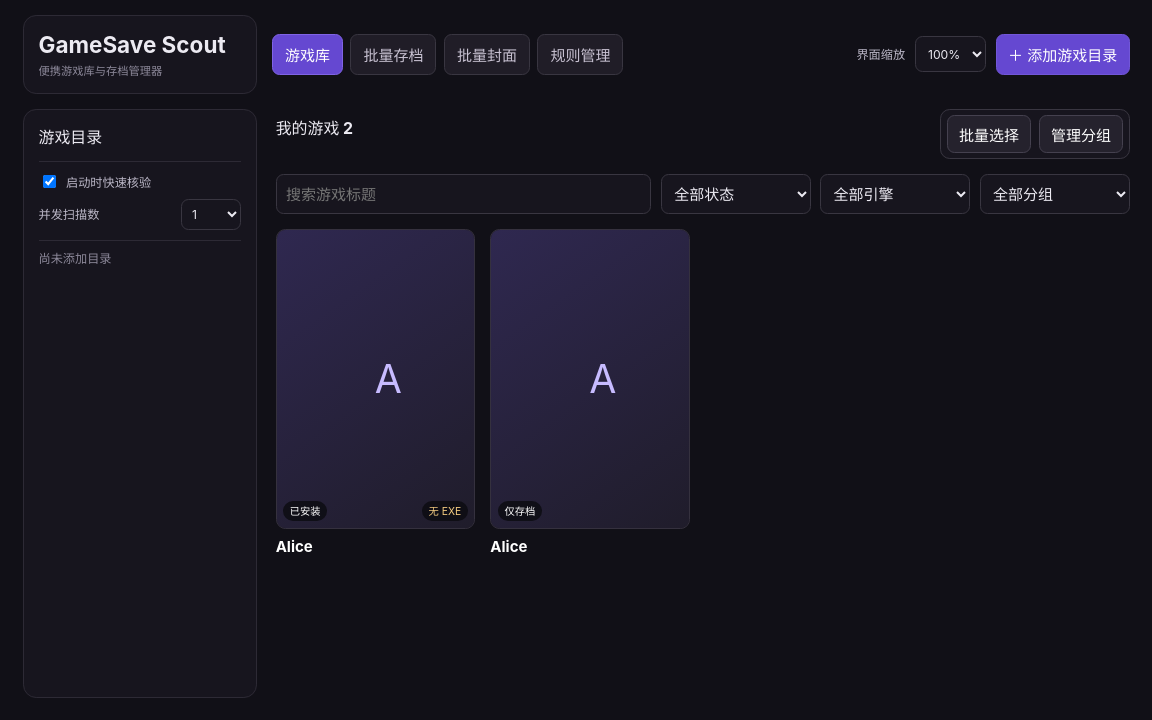
Scenario: App › keeps batch mode and remaining selections after a group update
The width and height of the screenshot is (1152, 720).
Click the button with test id "enter-batch-mode": [989, 134] box top-left (947, 115), bottom-right (1031, 153)
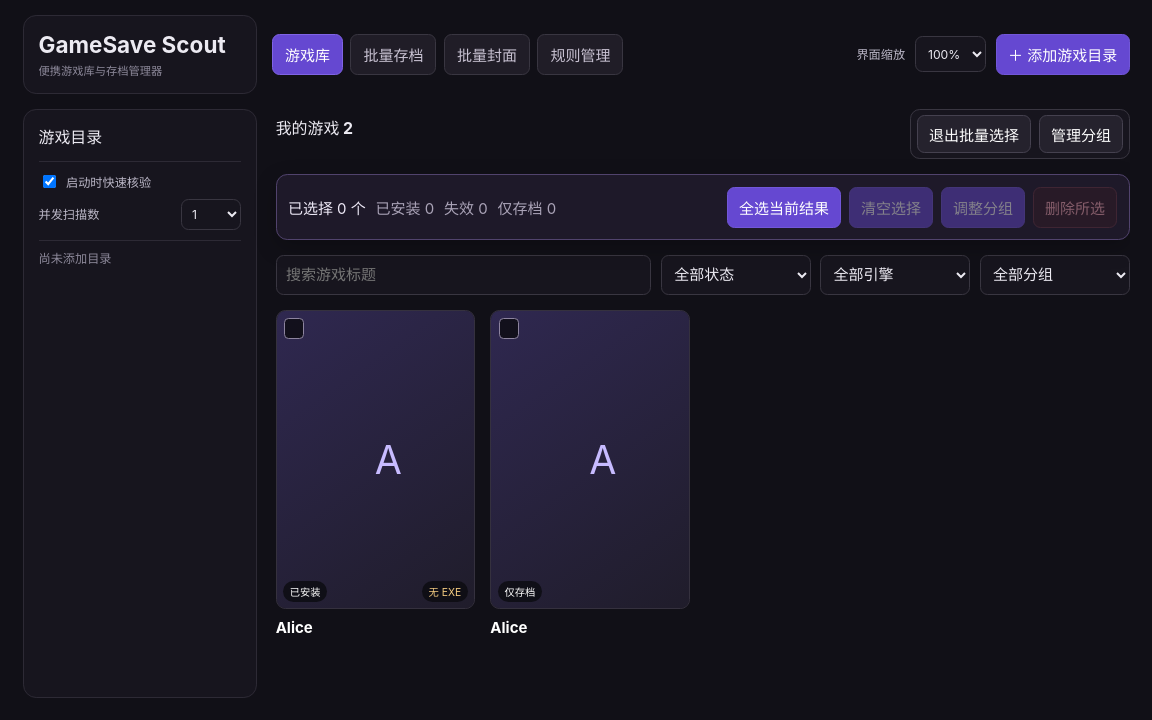
Click the button with test id "game-card-installed-1": [375, 473] box top-left (276, 310), bottom-right (475, 637)
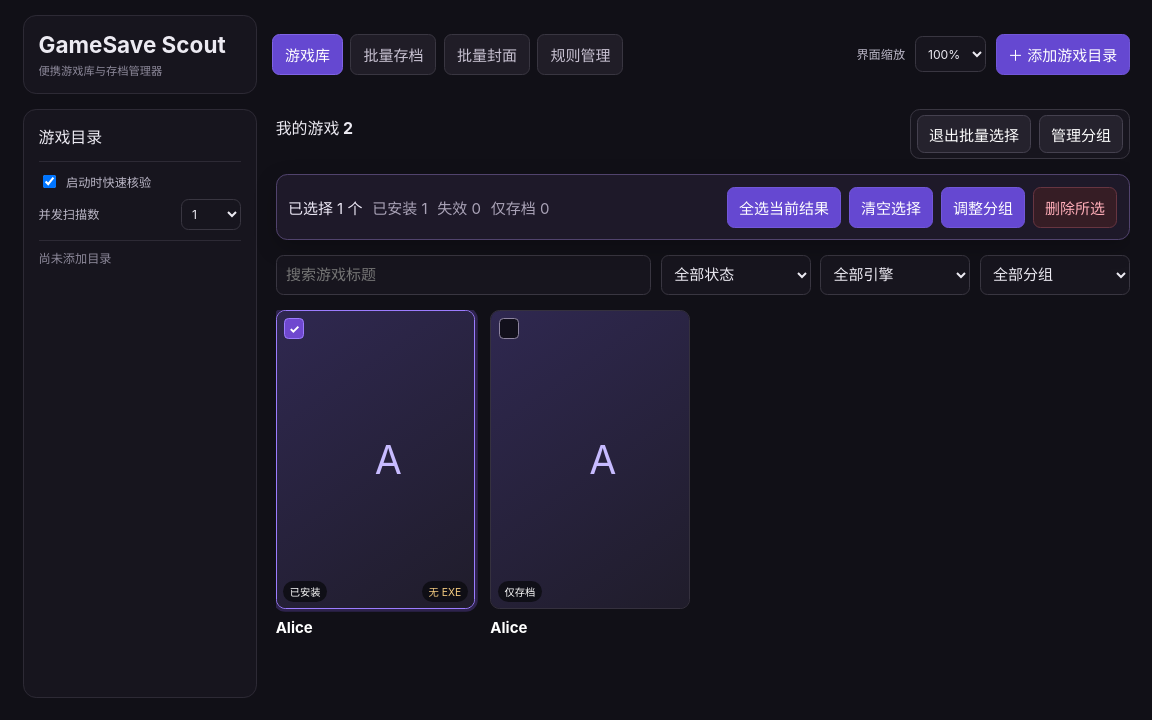
Click the button with test id "game-card-save-1": [590, 473] box top-left (490, 310), bottom-right (690, 637)
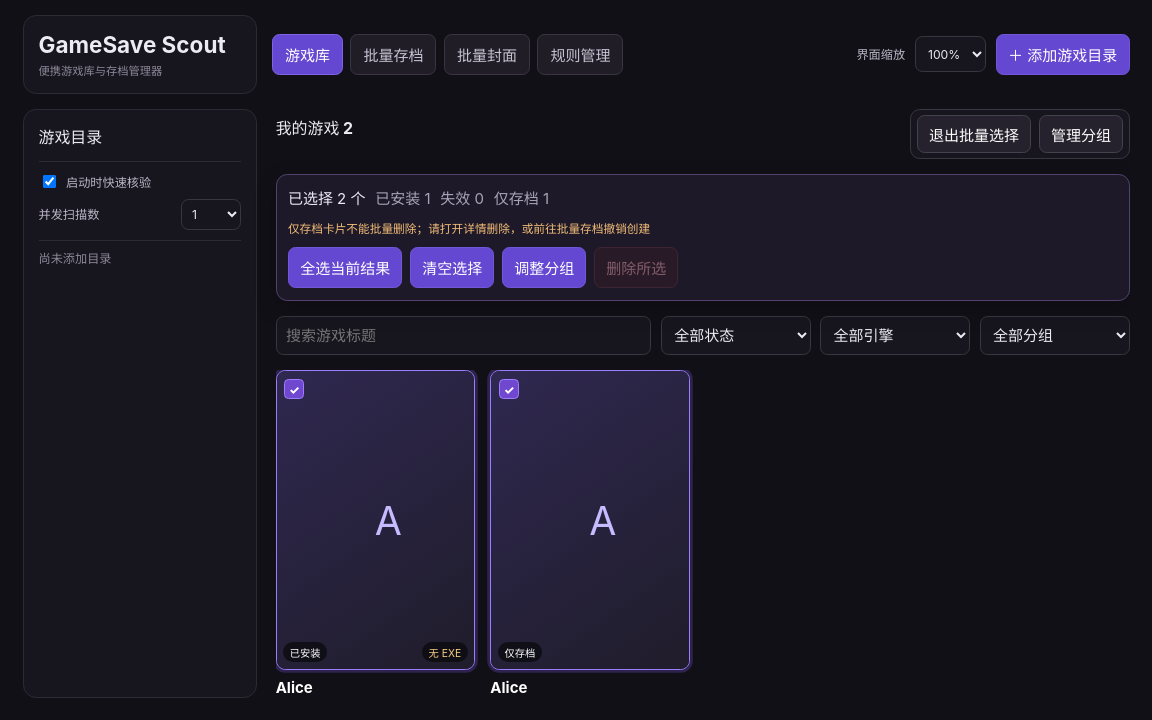
Click the button with test id "batch-group": [544, 268] box top-left (502, 247), bottom-right (586, 288)
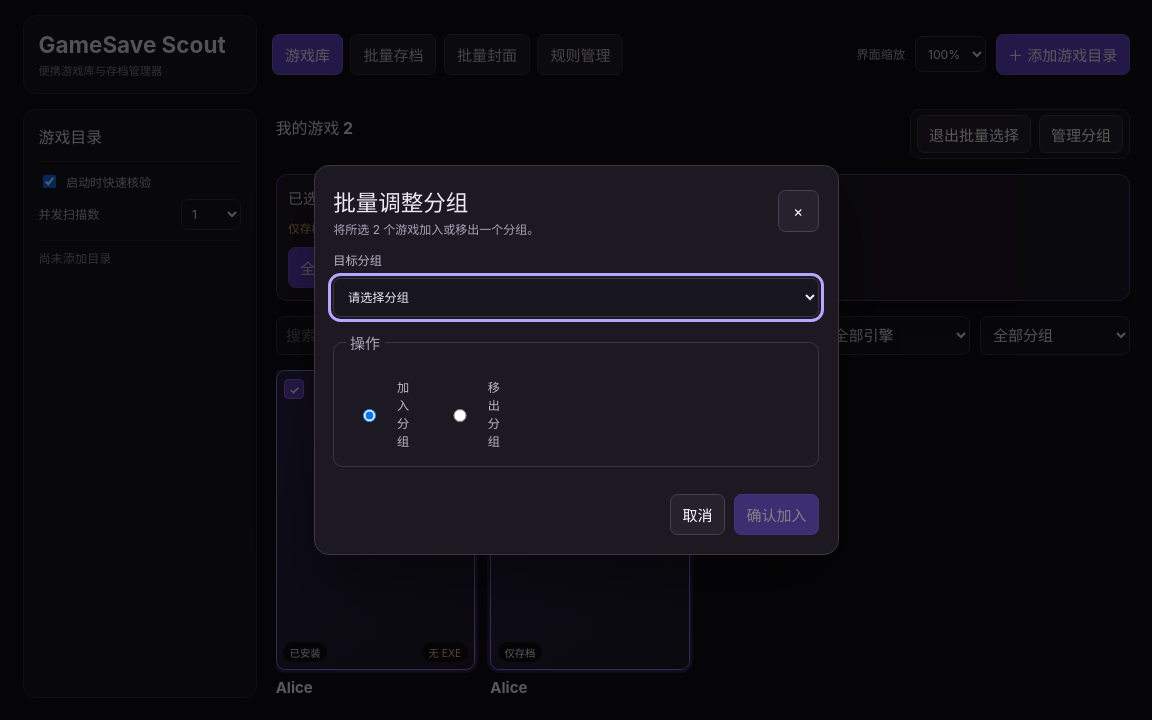
Select "RPG（0）" in the dropdown with test id "batch-group-select": [576, 298] box top-left (333, 278), bottom-right (819, 317)
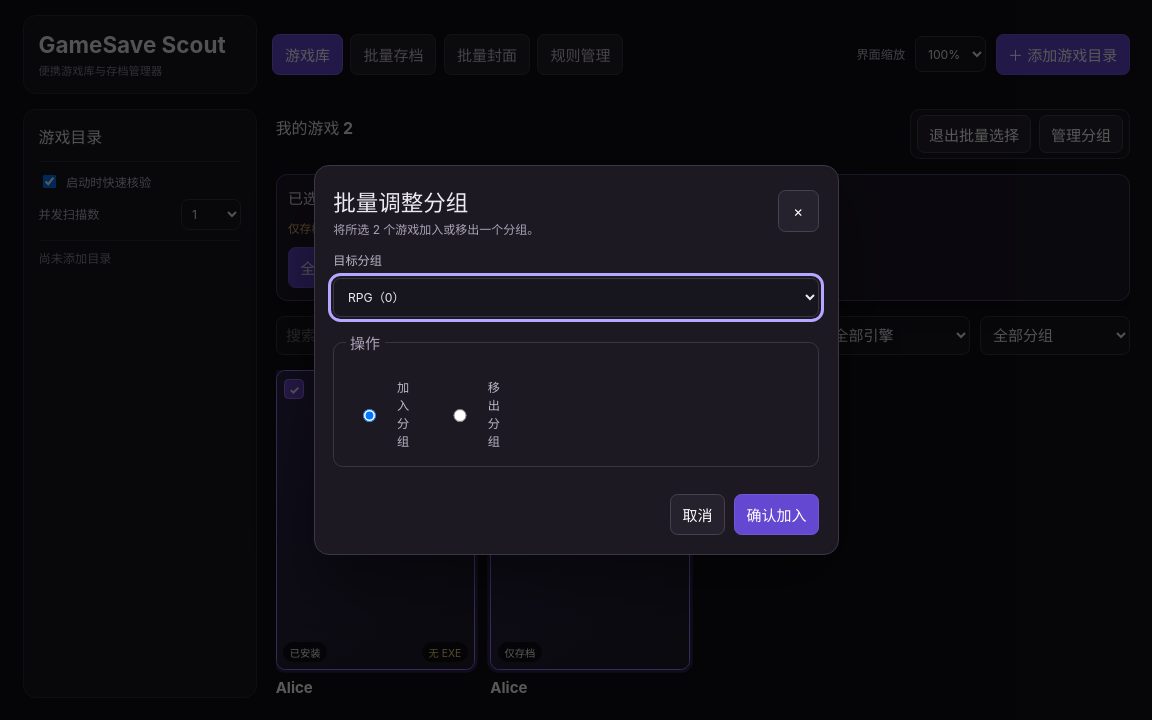
Submit the form with test id "batch-group-form", box top-left (333, 237), bottom-right (819, 535)
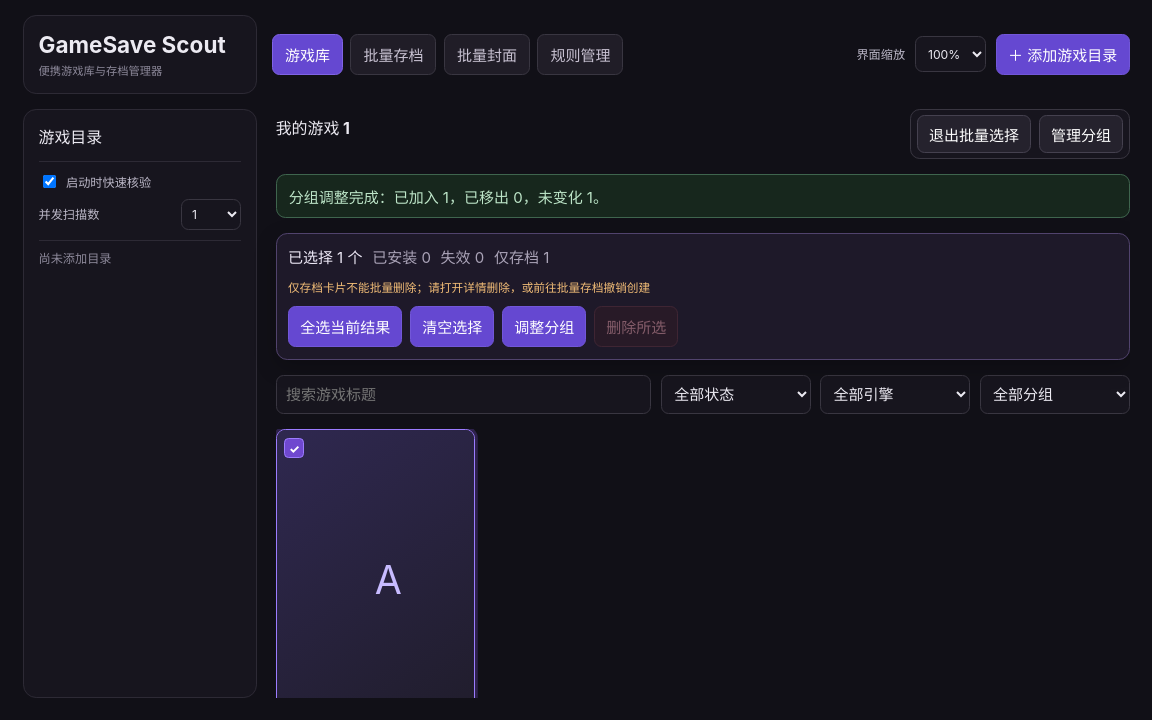
Check: the element with test id "batch-management-bar" is shown, box top-left (276, 233), bottom-right (1130, 360)
Check: the element with test id "batch-counts" shows "仅存档 1", box top-left (494, 248), bottom-right (549, 266)
Check: the element with test id "batch-counts" shows "已选择 1 个", box top-left (288, 248), bottom-right (362, 266)
